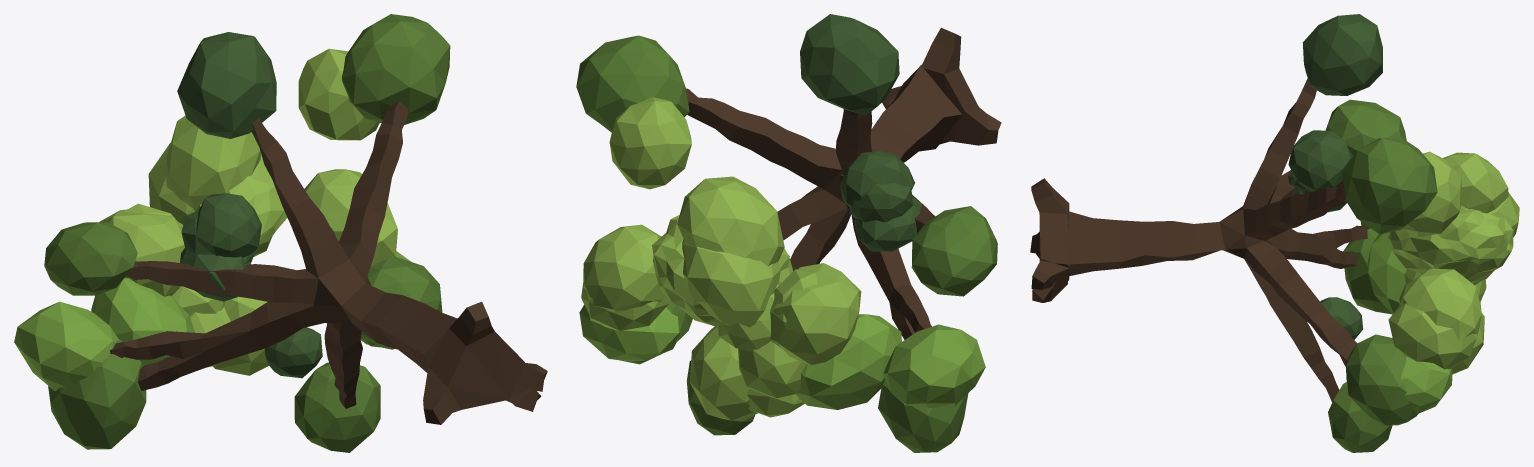
The model's file is TreeOakGreenD5.fbx.
3 views of the same model, side by side, from view 1: azimuth 30°, elevation 25°; view 2: azimuth 150°, elevation 25°; view 3: azimuth 270°, elevation 25° (orthographic). The views are drawn at different scales.
Parts seen in each view (by area): view 1: M_Tree_Bark, M_Tree_Leaf_Mid, M_Tree_Leaf_Pale, M_Tree_Leaf_Dark, M_Tree_Leaf_Light; view 2: M_Tree_Leaf_Pale, M_Tree_Bark, M_Tree_Leaf_Mid, M_Tree_Leaf_Light, M_Tree_Leaf_Dark; view 3: M_Tree_Bark, M_Tree_Leaf_Pale, M_Tree_Leaf_Mid, M_Tree_Leaf_Dark, M_Tree_Leaf_Light.
Part boxes in pixels (<box>): M_Tree_Bark: <box>110,101,547,424</box>; M_Tree_Leaf_Mid: <box>44,14,450,452</box>; M_Tree_Leaf_Pale: <box>99,48,397,375</box>; M_Tree_Leaf_Dark: <box>177,32,322,378</box>; M_Tree_Leaf_Light: <box>14,251,411,391</box>; M_Tree_Leaf_Pale: <box>581,97,861,421</box>; M_Tree_Bark: <box>686,27,1001,339</box>; M_Tree_Leaf_Mid: <box>576,35,997,452</box>; M_Tree_Leaf_Light: <box>579,305,985,409</box>; M_Tree_Leaf_Dark: <box>800,14,921,251</box>; M_Tree_Bark: <box>1030,78,1370,402</box>; M_Tree_Leaf_Pale: <box>1388,151,1519,374</box>; M_Tree_Leaf_Mid: <box>1325,99,1437,452</box>; M_Tree_Leaf_Dark: <box>1288,14,1382,339</box>; M_Tree_Leaf_Light: <box>1360,221,1452,413</box>.
Bounding box in the file's own units: 31.28 × 32.51 × 37.53.
